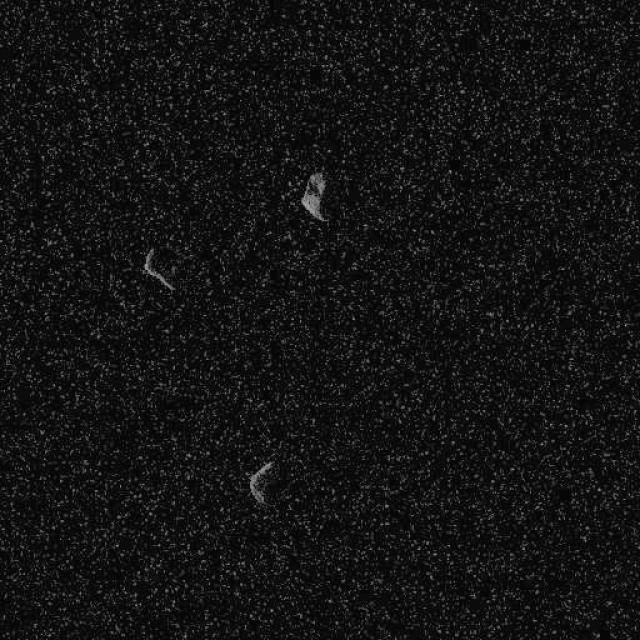D2: (248, 459, 284, 506), (140, 246, 175, 292), (299, 170, 329, 222)
